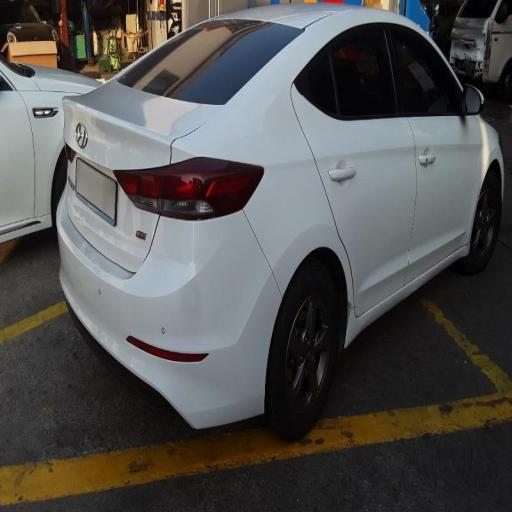dent: (128, 180, 275, 376)
